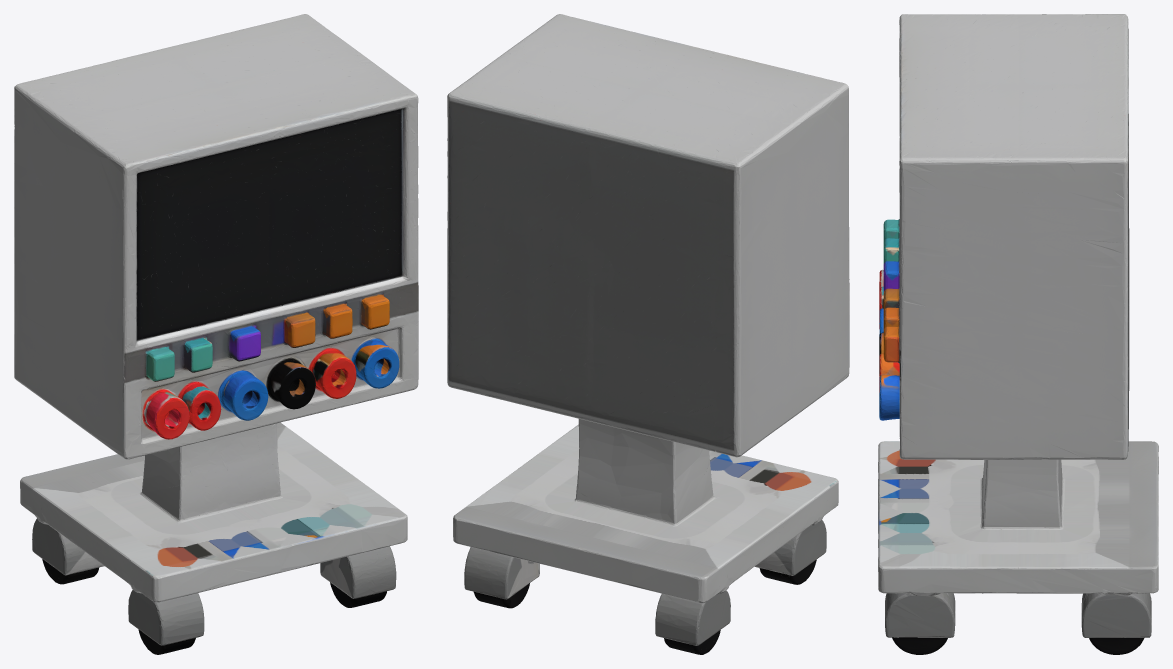
File: champion.glb
3 renders of one model, left to right at view 1: azimuth 30°, elevation 25°; view 2: azimuth 150°, elevation 25°; view 3: azimuth 270°, elevation 25°, orthographic. The views are drawn at different scales.
Parts seen in each view (by area): view 1: world; view 2: world; view 3: world.
Part boxes in pixels (bbox=[...]): world: bbox=[14, 14, 418, 654]; world: bbox=[447, 14, 849, 654]; world: bbox=[878, 14, 1158, 654].
Bounding box in the file's own units: 1.22 × 1.99 × 0.9879.
1 material, 1 textured.
